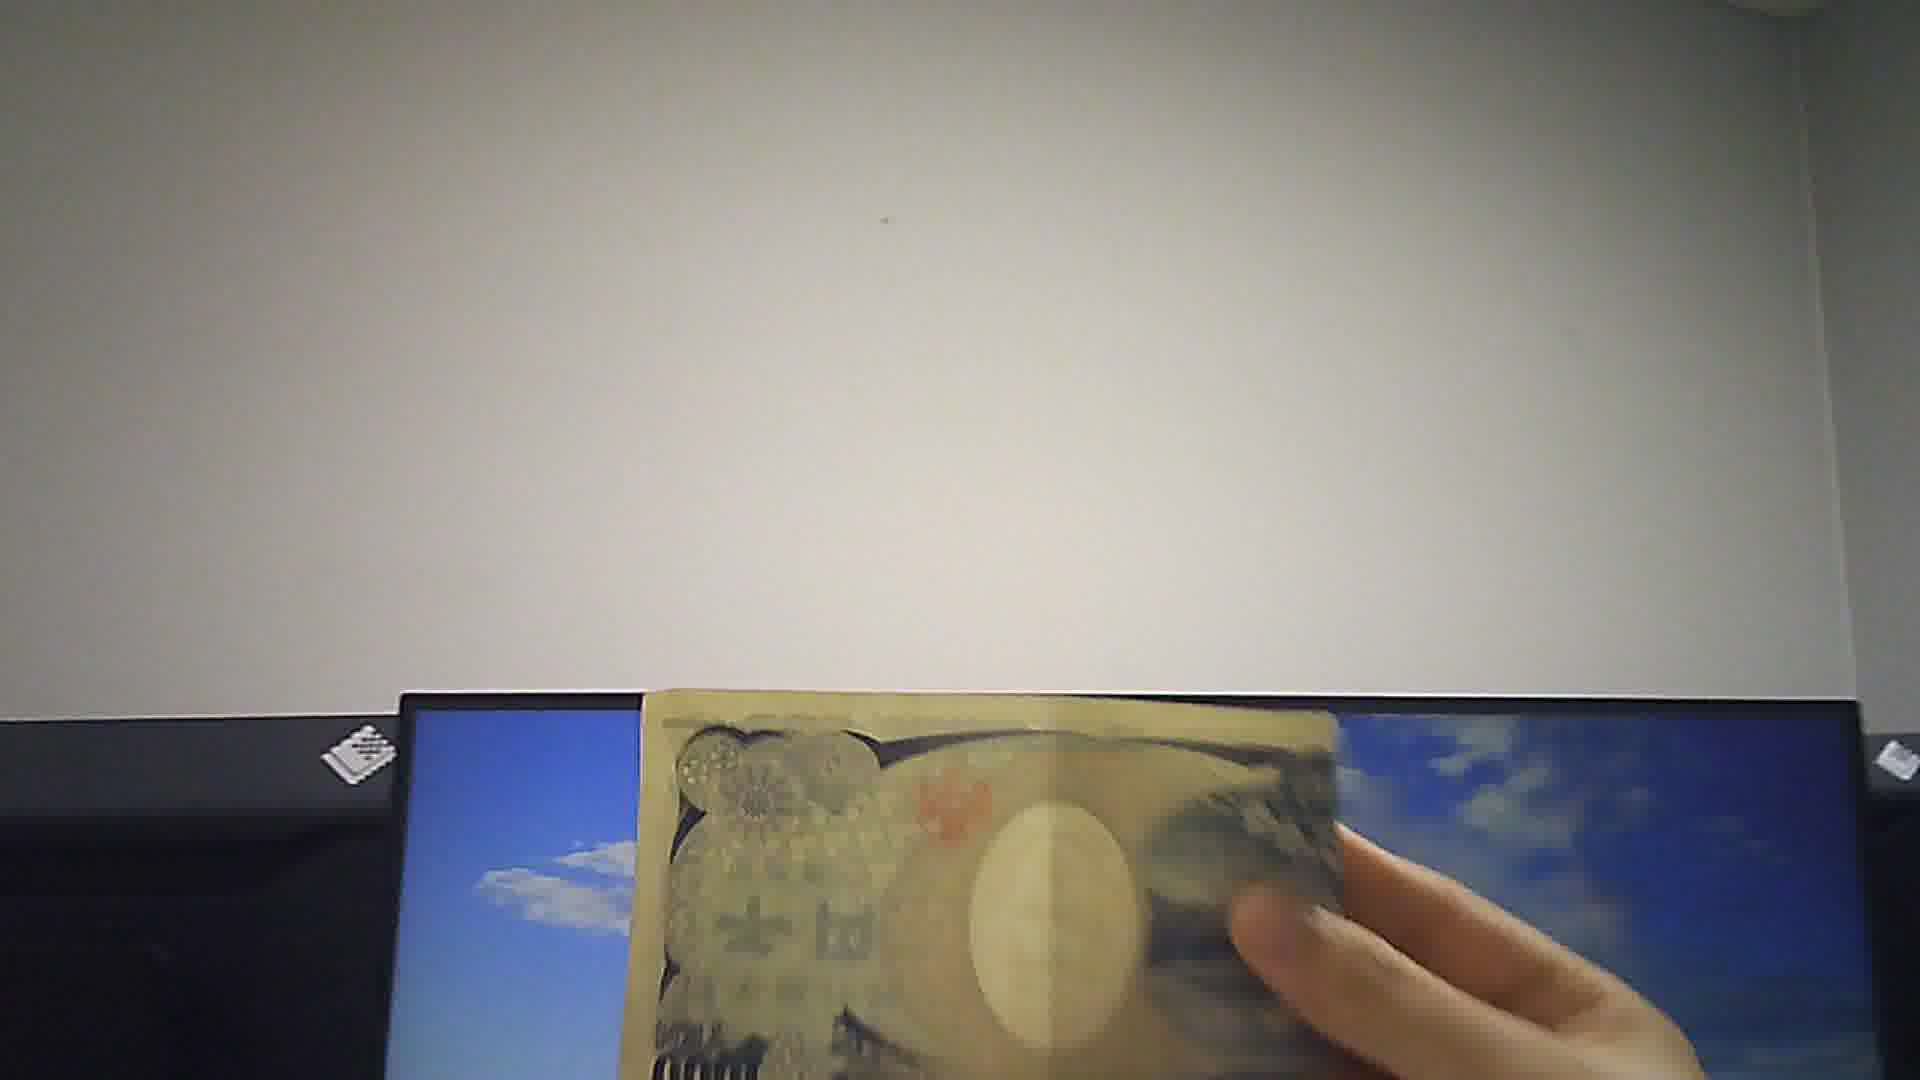1,000 Yen: (618, 670, 1319, 1079)
